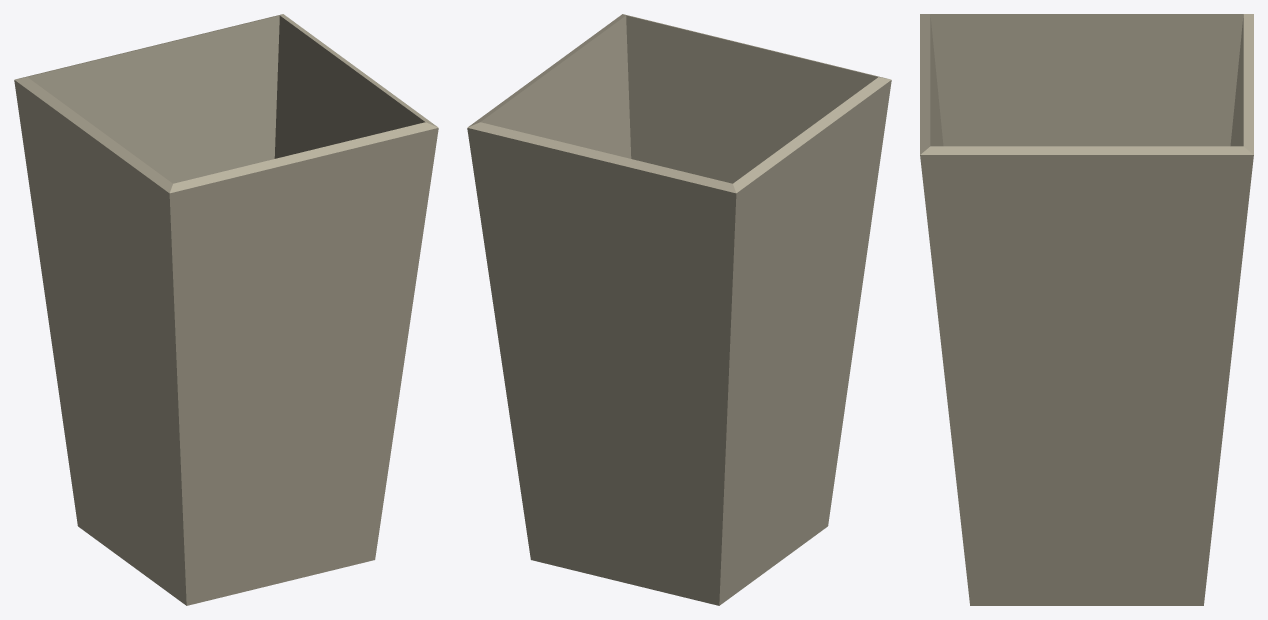
Rendered from S_Bucket2.fbx.
The picture shows the model from 3 angles, left to right: view 1: azimuth 30°, elevation 25°; view 2: azimuth 150°, elevation 25°; view 3: azimuth 270°, elevation 25°; orthographic projection. The views are drawn at different scales.
Visible parts, largest first — view 1: S_Bucket2; view 2: S_Bucket2; view 3: S_Bucket2.
Boxes of the visible parts, <box> form: S_Bucket2: <box>14,14,438,605</box>; S_Bucket2: <box>467,14,891,605</box>; S_Bucket2: <box>920,14,1253,605</box>.
Size of the model in its own units: 28.8 by 45.34 by 28.8.
